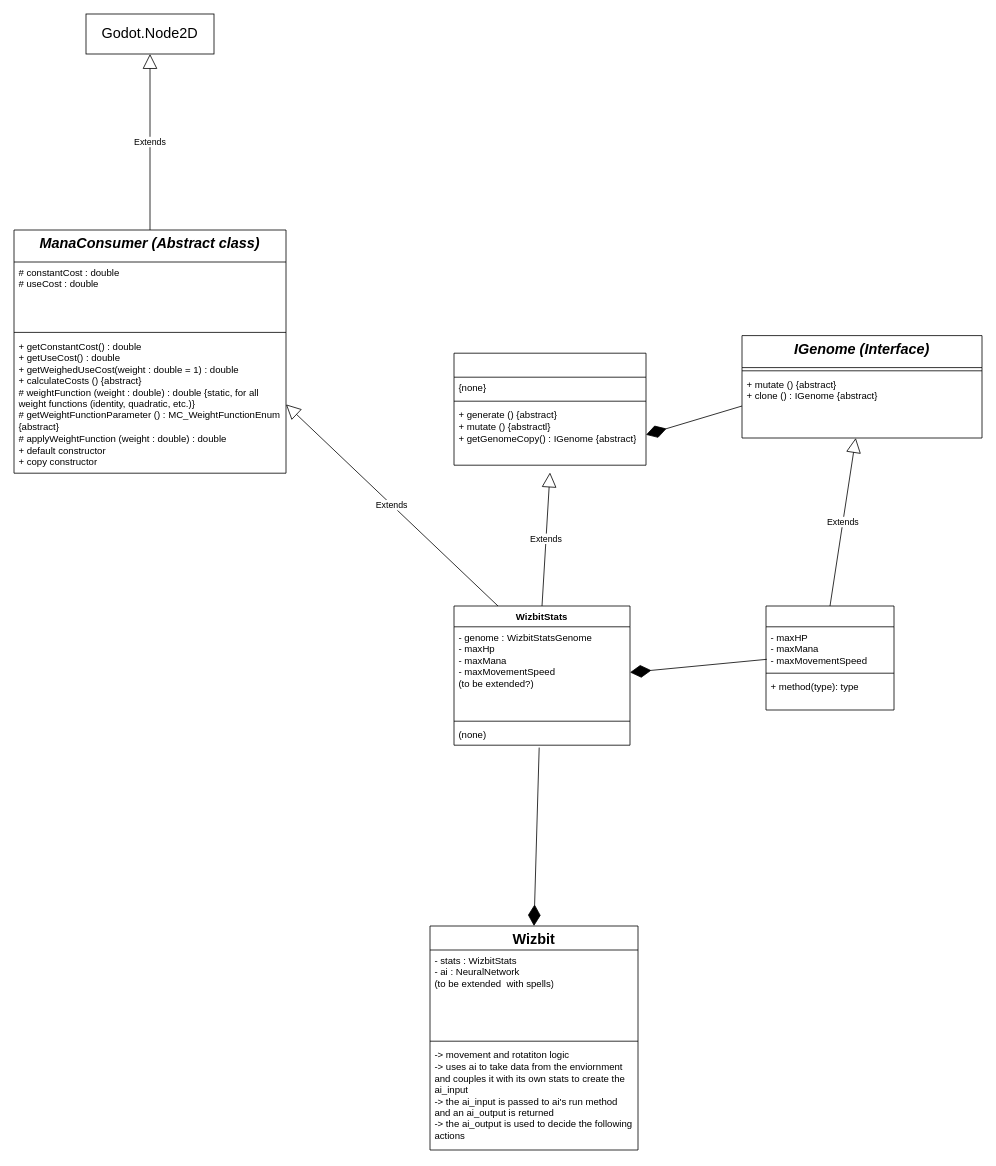
This 996x1166 diagram has some shape labels left out. Each missing label, with the box of its shape:
IEvolvable (Interface): (453, 352, 646, 465)
WizbitStatsGenome: (765, 605, 894, 710)
